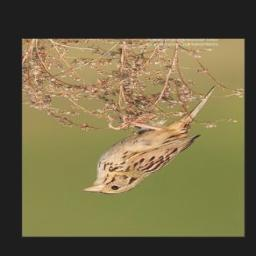Sparrow: (82, 85, 217, 195)
